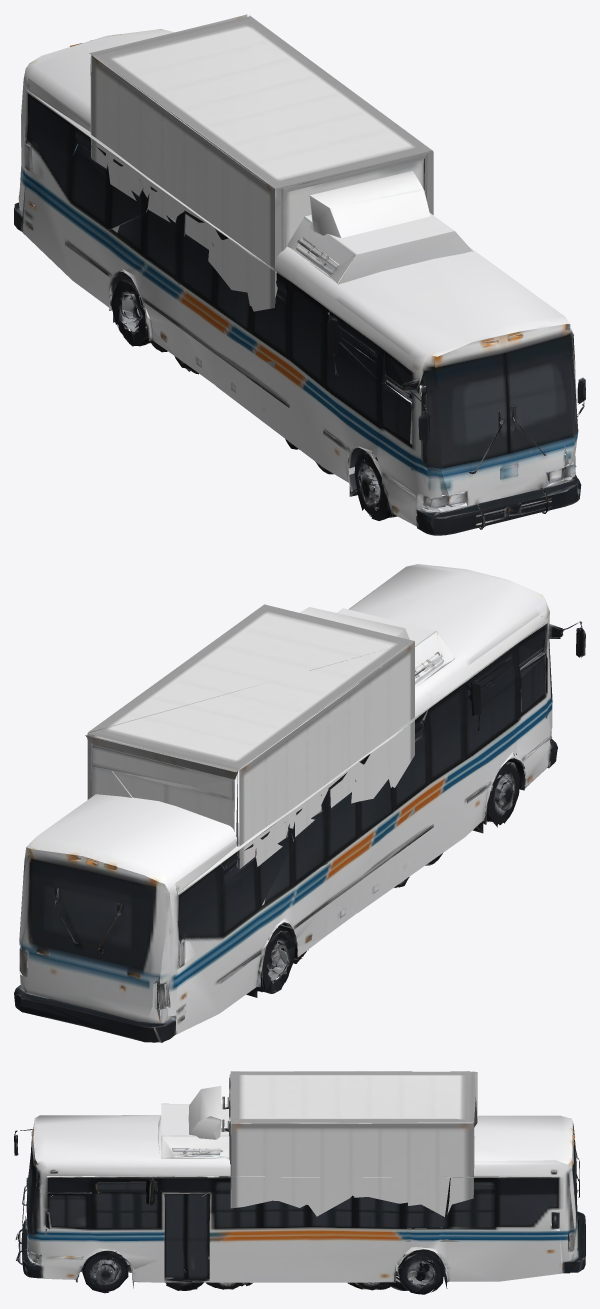
File: vehicles_lod.glb
3 renders of one model, top to bottom at view 1: azimuth 30°, elevation 25°; view 2: azimuth 150°, elevation 25°; view 3: azimuth 270°, elevation 25°, orthographic. The views are drawn at different scales.
Parts seen in each view (by area): view 1: bus_lod1_body, box_truck_lod1_body, bus_lod1_wheel_RL, bus_lod1_wheel_FL; view 2: bus_lod1_body, box_truck_lod1_body, bus_lod1_wheel_RL, bus_lod1_wheel_FL; view 3: bus_lod1_body, box_truck_lod1_body, bus_lod1_wheel_RR, bus_lod1_wheel_FR, box_truck_lod1_wheel_RR.
Boxes of the visible parts, x1,y1,x2,y2 form: bus_lod1_body: (14, 29, 585, 535); box_truck_lod1_body: (89, 14, 433, 461); bus_lod1_wheel_RL: (111, 277, 153, 346); bus_lod1_wheel_FL: (348, 457, 380, 516); bus_lod1_body: (14, 564, 585, 1042); box_truck_lod1_body: (85, 604, 481, 905); bus_lod1_wheel_RL: (257, 928, 295, 993); bus_lod1_wheel_FL: (483, 773, 514, 827); bus_lod1_body: (14, 1103, 585, 1293); box_truck_lod1_body: (125, 1071, 477, 1280); bus_lod1_wheel_RR: (398, 1249, 444, 1294); bus_lod1_wheel_FR: (91, 1258, 128, 1291); box_truck_lod1_wheel_RR: (386, 1250, 431, 1290).
Size of what is drawn, in the model's own units: 3.09 by 4.02 by 11.99.
Materials: 1 (1 with a texture image).
